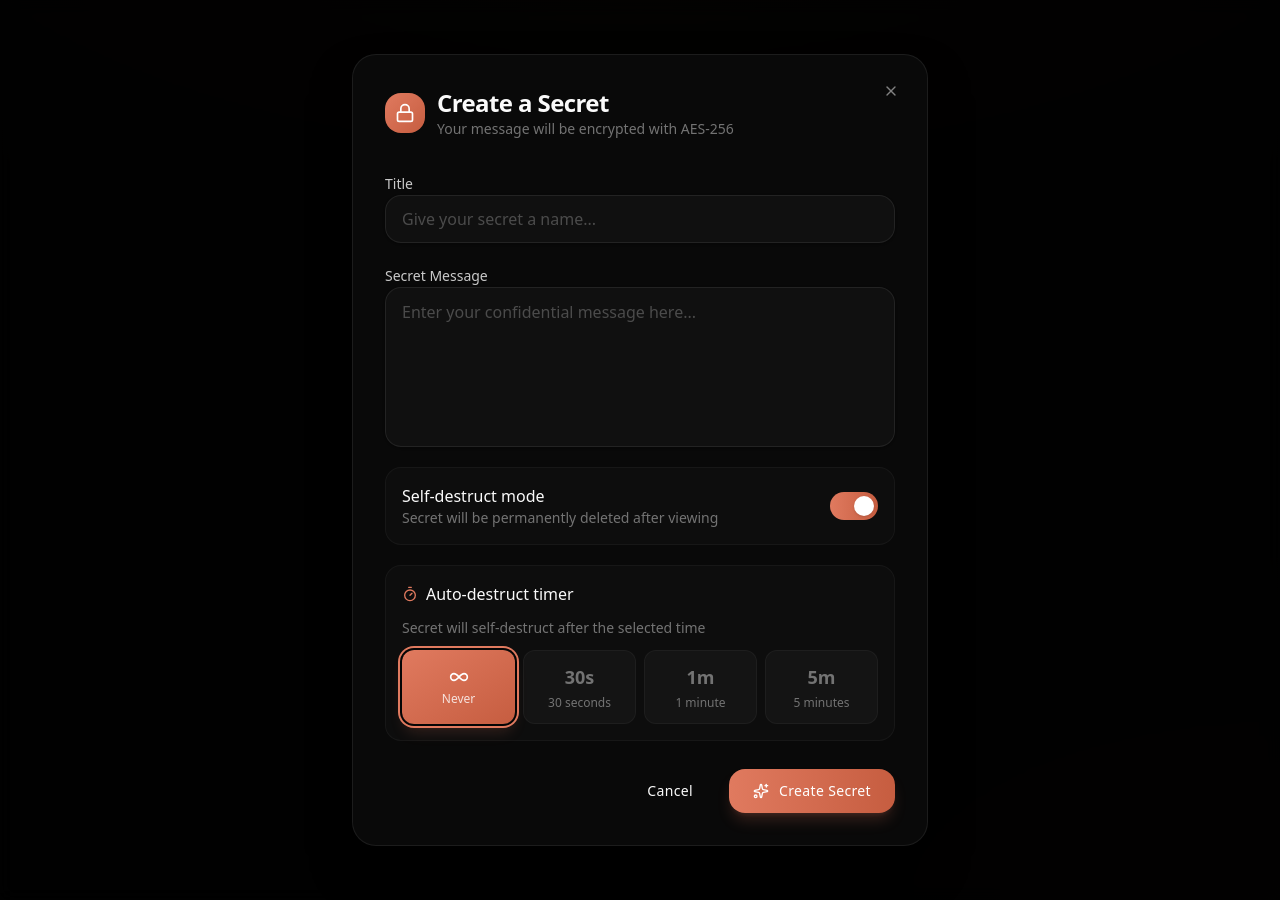
CreateSecretDialog › shows validation error for empty title
The image size is (1280, 900).
Type "Some secret content" into the text box labelled "Secret Message" at (640, 367), box x1=385 y1=287 x2=895 y2=447
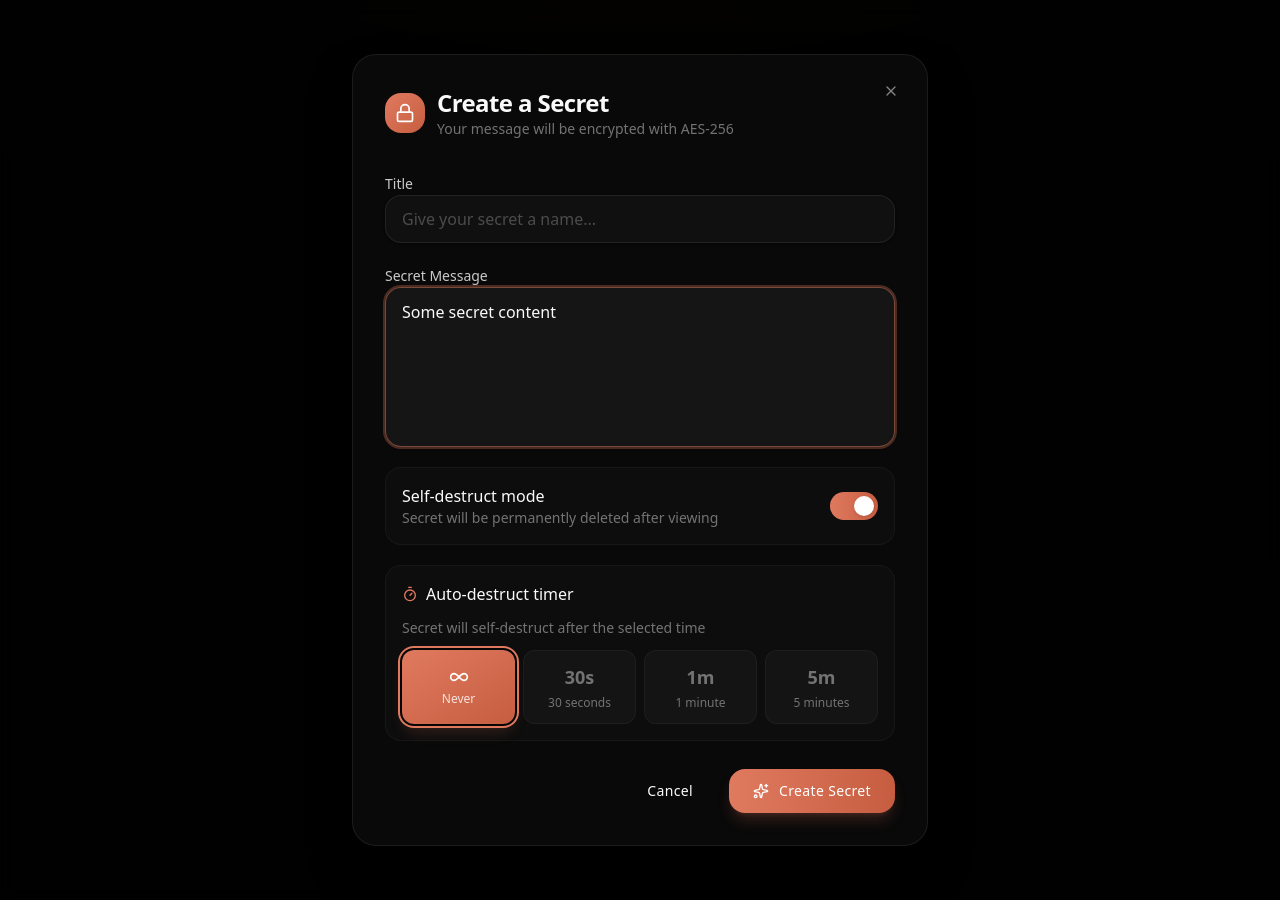
Click the button "Create Secret" at (812, 791), box x1=729 y1=769 x2=895 y2=813
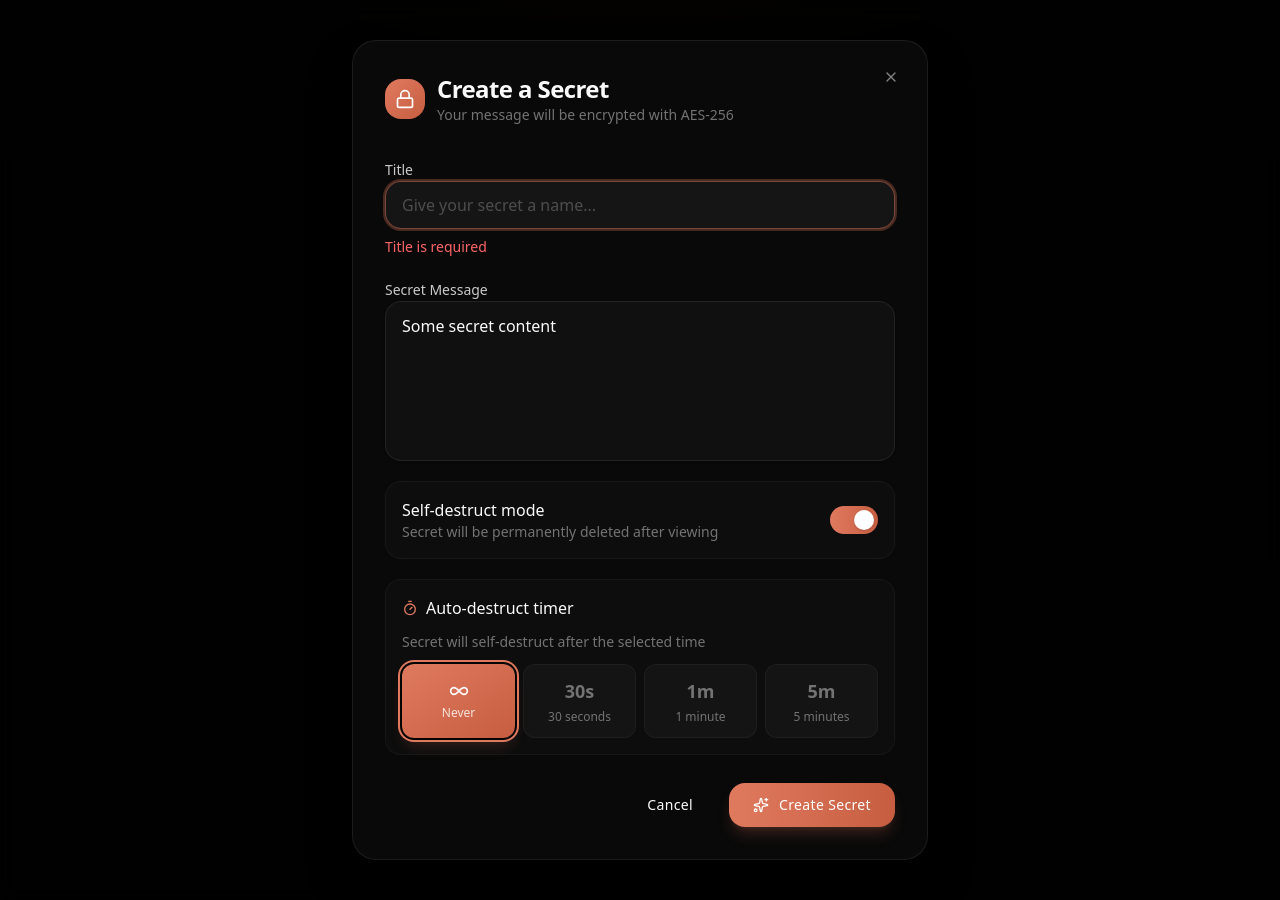
Result: the text "Title is required" is shown at x1=385 y1=237 x2=487 y2=256
